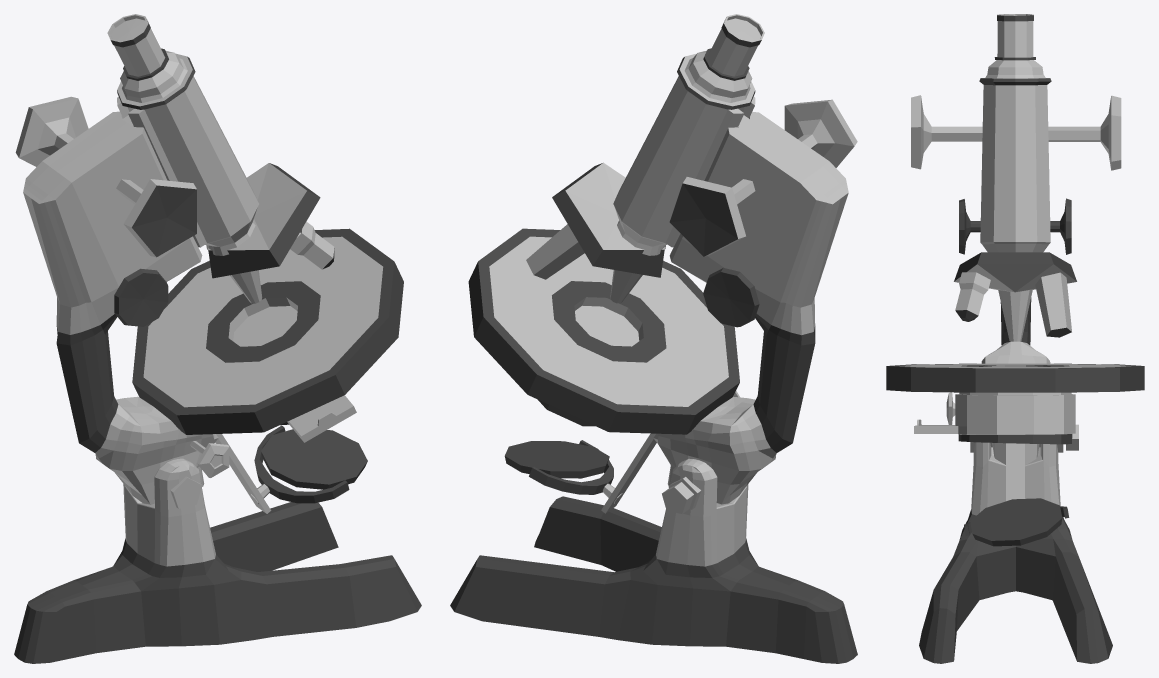
Rendered from MicroScope.fbx.
The picture shows the model from 3 angles, left to right: view 1: azimuth 30°, elevation 25°; view 2: azimuth 150°, elevation 25°; view 3: azimuth 270°, elevation 25°; orthographic projection. The views are drawn at different scales.
Visible parts, largest first — view 1: MicroScope; view 2: MicroScope; view 3: MicroScope.
Boxes of the visible parts, <box> form: MicroScope: <box>14,14,421,663</box>; MicroScope: <box>450,14,857,663</box>; MicroScope: <box>886,14,1144,663</box>.
Bounding box in the file's own units: 46.29 × 74.49 × 31.87.
